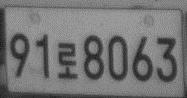0: (108, 36, 129, 81)
1: (34, 33, 50, 79)
3: (156, 37, 178, 83)
6: (131, 37, 153, 81)
8: (83, 34, 105, 81)
9: (9, 32, 30, 79)
로: (56, 41, 78, 79)
